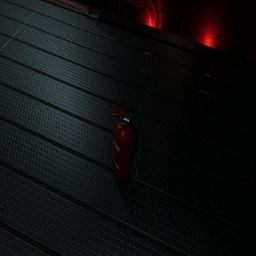FireExtinguisher ]: (110, 102, 138, 186)
